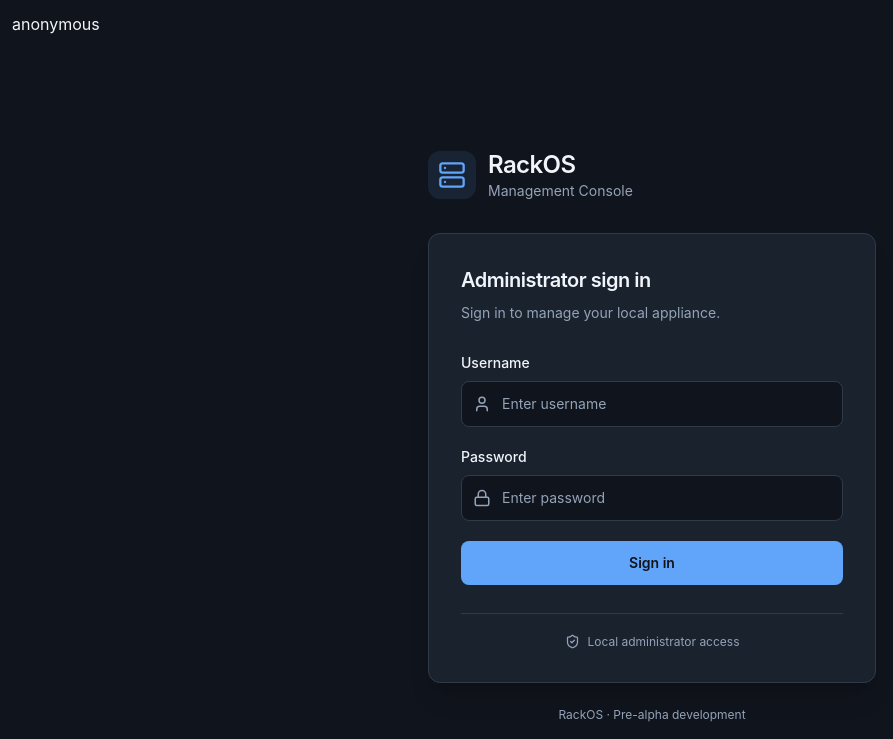
Administrator login page › does not expose the login form when authentication becomes unavailable
Expected: the heading "Administrator sign in" is shown, [461,268,651,292]
In the field labelled "Username": (652, 404) [461,381,843,427], type "admin"
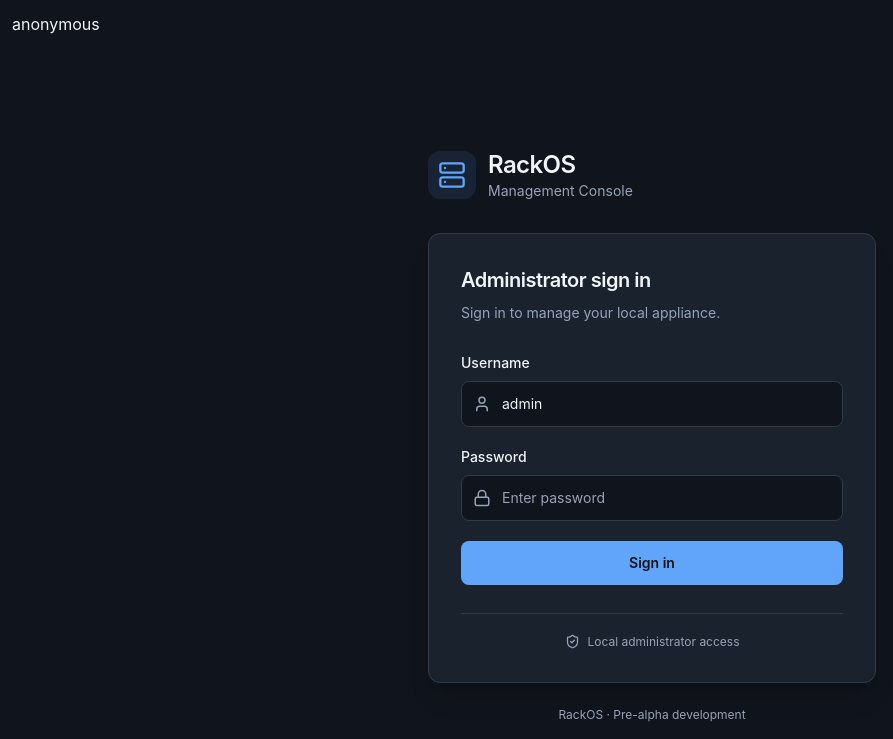
In the password field labelled "Password": (652, 498) [461,475,843,521], type "synthetic-test-password"
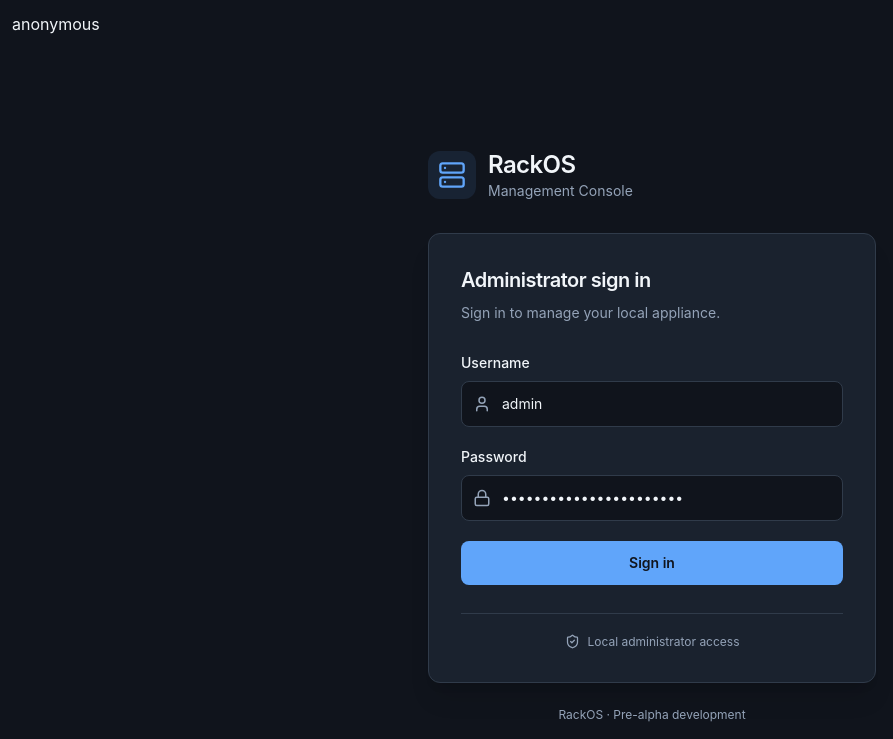
Submit the form named "Administrator sign in", box [461,353,843,585]
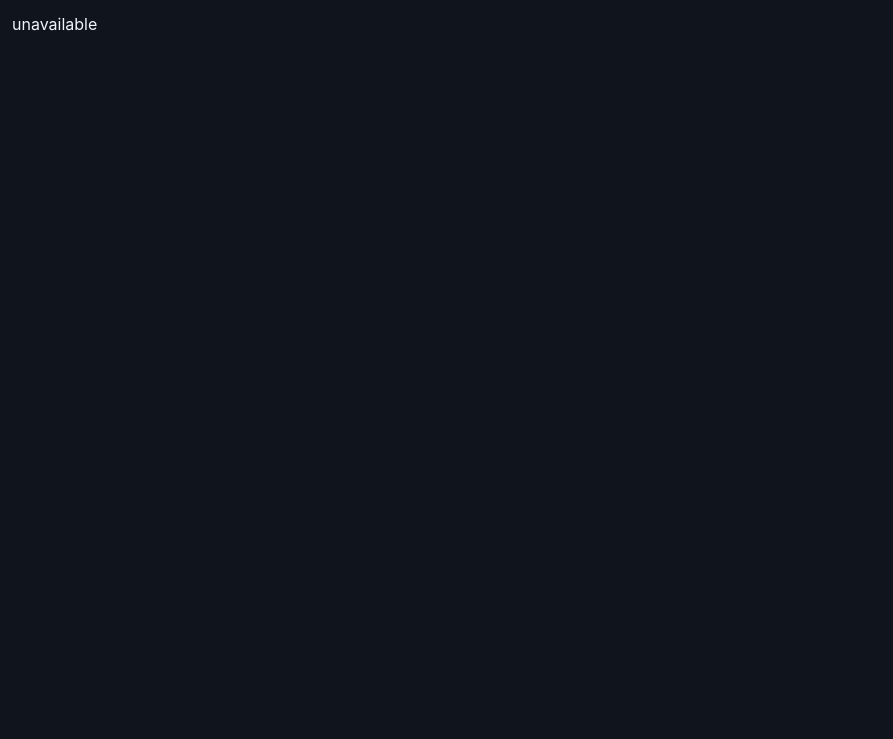
Now the text with test id "auth-state" reads "unavailable", box [12,14,97,34]
Now the label labelled "Username" is gone
Now the label labelled "Password" is gone
